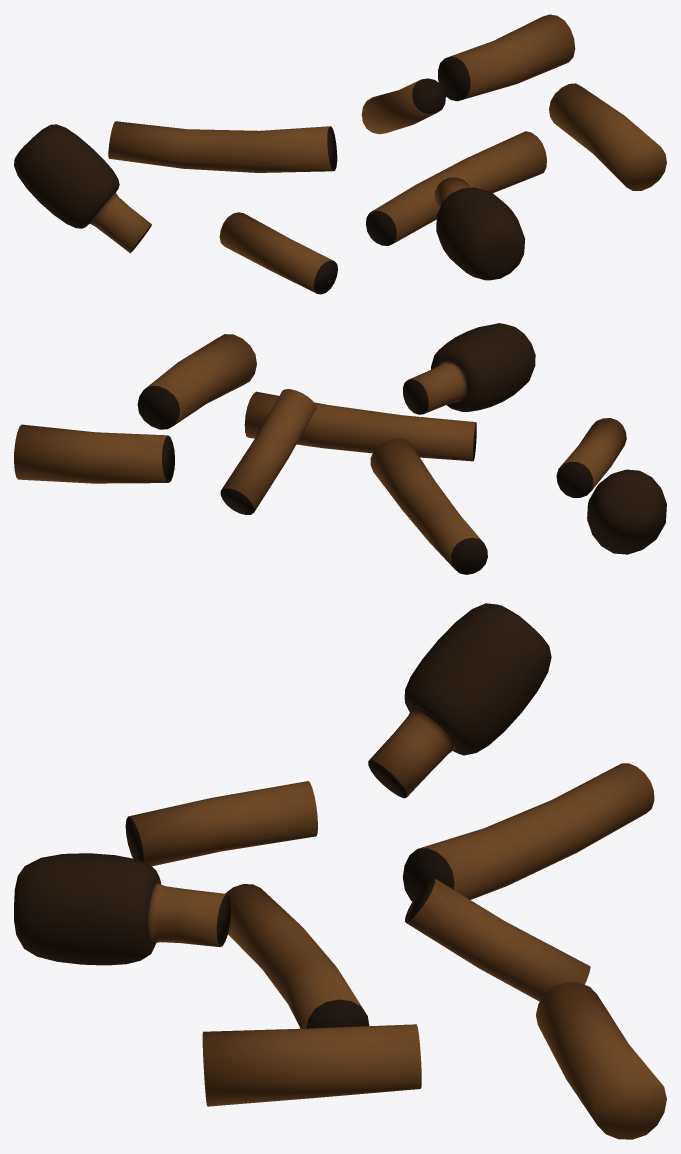
Rendered from AntenasLibelula_cortada.fbx.
The picture shows the model from 3 angles, top to bottom: view 1: azimuth 30°, elevation 25°; view 2: azimuth 150°, elevation 25°; view 3: azimuth 270°, elevation 25°; orthographic projection. The views are drawn at different scales.
Parts seen in each view (by area): view 1: Antenas_cortada; view 2: Antenas_cortada; view 3: Antenas_cortada.
Boxes of the visible parts, box(x1,y1,x2,y2) form: Antenas_cortada: box(14, 14, 666, 294); Antenas_cortada: box(14, 323, 666, 574); Antenas_cortada: box(14, 603, 666, 1139).
Bounding box in the file's own units: 157 × 28.4 × 106.
Materials: 1 (1 with a texture image).
